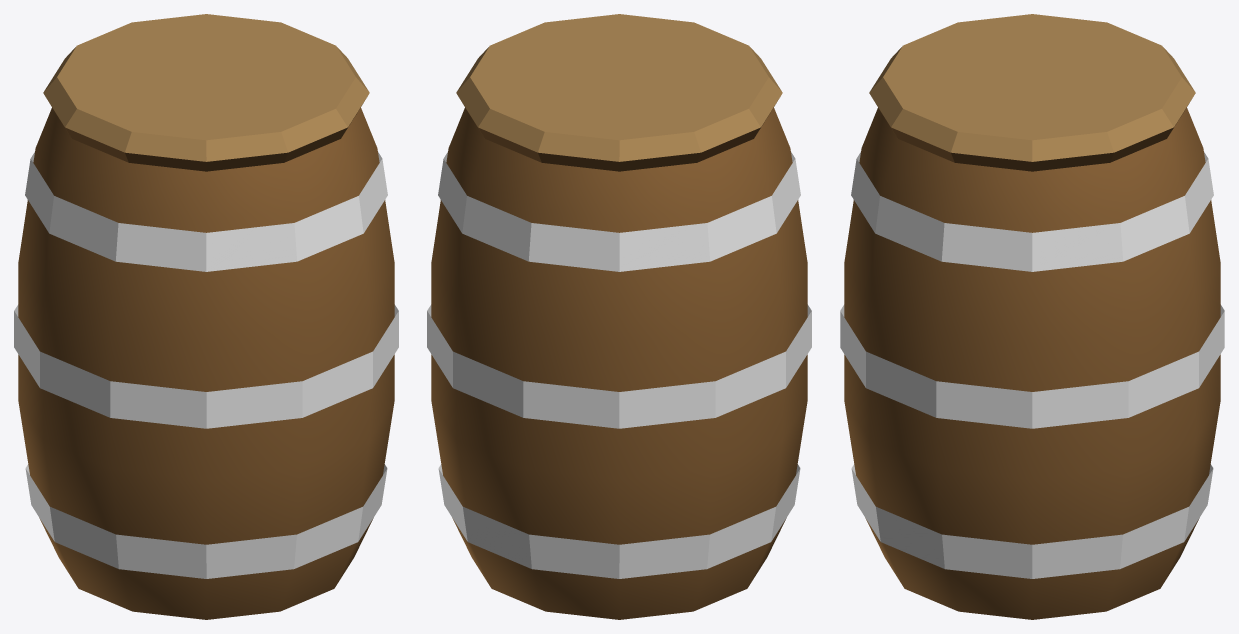
The model's file is barrel.glb.
The picture shows the model from 3 angles, left to right: view 1: azimuth 30°, elevation 25°; view 2: azimuth 150°, elevation 25°; view 3: azimuth 270°, elevation 25°; orthographic projection.
Visible parts, largest first — view 1: Barrel; view 2: Barrel; view 3: Barrel.
Part boxes in pixels (box(x1,y1,x2,y2)): Barrel: box(14, 14, 398, 619); Barrel: box(427, 14, 811, 619); Barrel: box(840, 14, 1224, 619).
Size of the model in its own units: 0.664 by 0.915 by 0.664.
